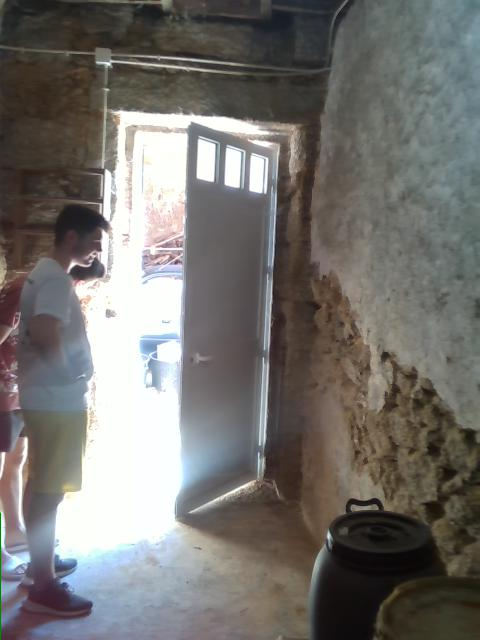semi_door: (106, 117, 284, 521)
